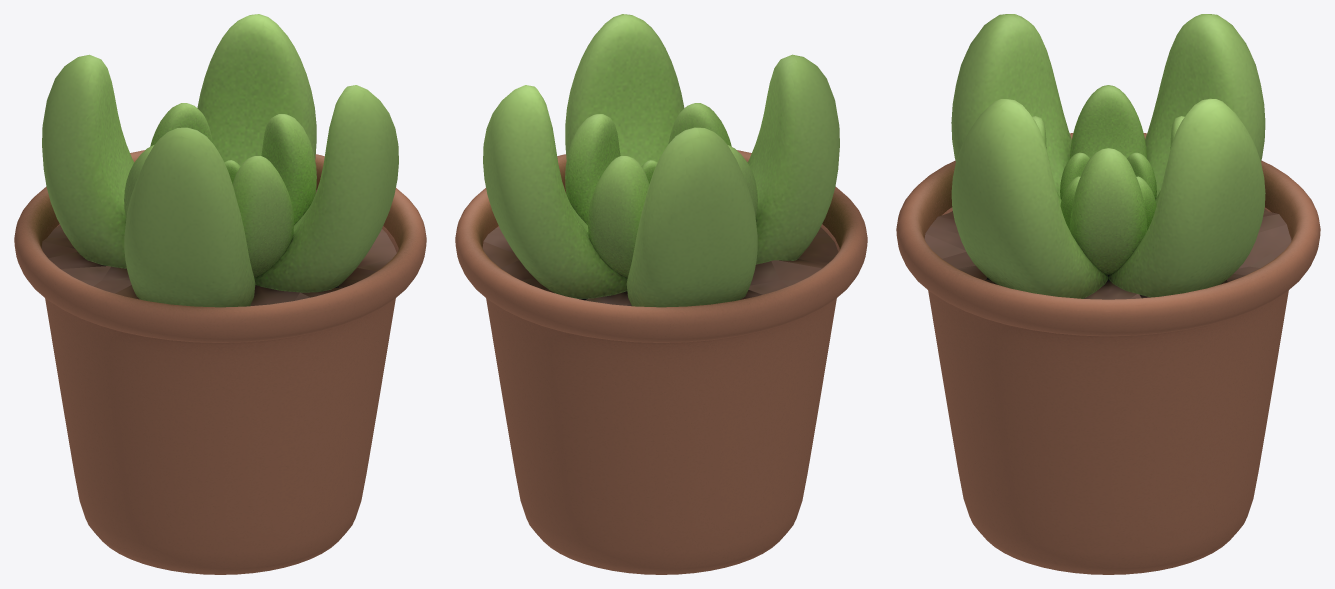
The model's file is shelf_decor3.glb.
3 renders of one model, left to right at view 1: azimuth 30°, elevation 25°; view 2: azimuth 150°, elevation 25°; view 3: azimuth 270°, elevation 25°, orthographic. The views are drawn at different scales.
Visible parts, largest first — view 1: Cylinder, Cube.007, Cube.006, Cube.008, Cube.005, Cube.003, Cylinder.001, Cube.002, Cube.001, Cube.004; view 2: Cylinder, Cube.008, Cube.005, Cube.007, Cube.006, Cube.001, Cylinder.001, Cube.002, Cube.003, Cube.004; view 3: Cylinder, Cube.006, Cube.005, Cube.008, Cube.007, Cube.002, Cylinder.001, Cube.004, Cube.011, Cube.012.
Boxes of the visible parts, x1,y1,x2,y2 form: Cylinder: (14,150,426,574); Cube.007: (124,127,255,307); Cube.006: (254,85,398,292); Cube.008: (42,54,134,268); Cube.005: (197,14,316,166); Cube.003: (232,156,293,277); Cylinder.001: (41,190,396,306); Cube.002: (261,114,316,224); Cube.001: (150,103,213,146); Cube.004: (124,145,153,218); Cylinder: (455,150,867,574); Cube.008: (626,127,757,307); Cube.005: (483,85,627,298); Cube.007: (747,54,839,264); Cube.006: (565,14,684,166); Cube.001: (588,156,649,277); Cylinder.001: (482,227,838,306); Cube.002: (565,114,620,224); Cube.003: (668,103,731,146); Cube.004: (728,145,757,218); Cylinder: (896,133,1320,574); Cube.006: (951,99,1108,298); Cube.005: (1108,98,1265,297); Cube.008: (1145,14,1265,197); Cube.007: (951,14,1071,197); Cube.002: (1069,148,1147,274); Cylinder.001: (924,209,1291,299); Cube.004: (1070,85,1146,158); Cube.011: (1060,152,1089,199); Cube.012: (1127,152,1156,199).
Size of the model in its own units: 1.82 by 2.24 by 1.82.
Materials: 3 (3 with a texture image).
